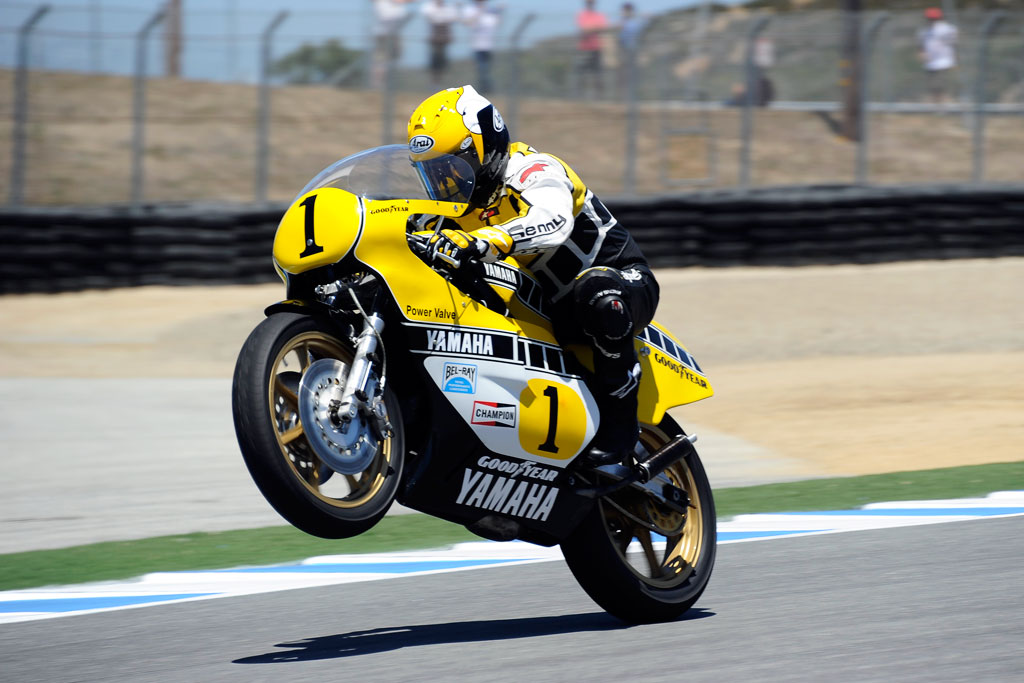helmet: (297, 75, 728, 488)
